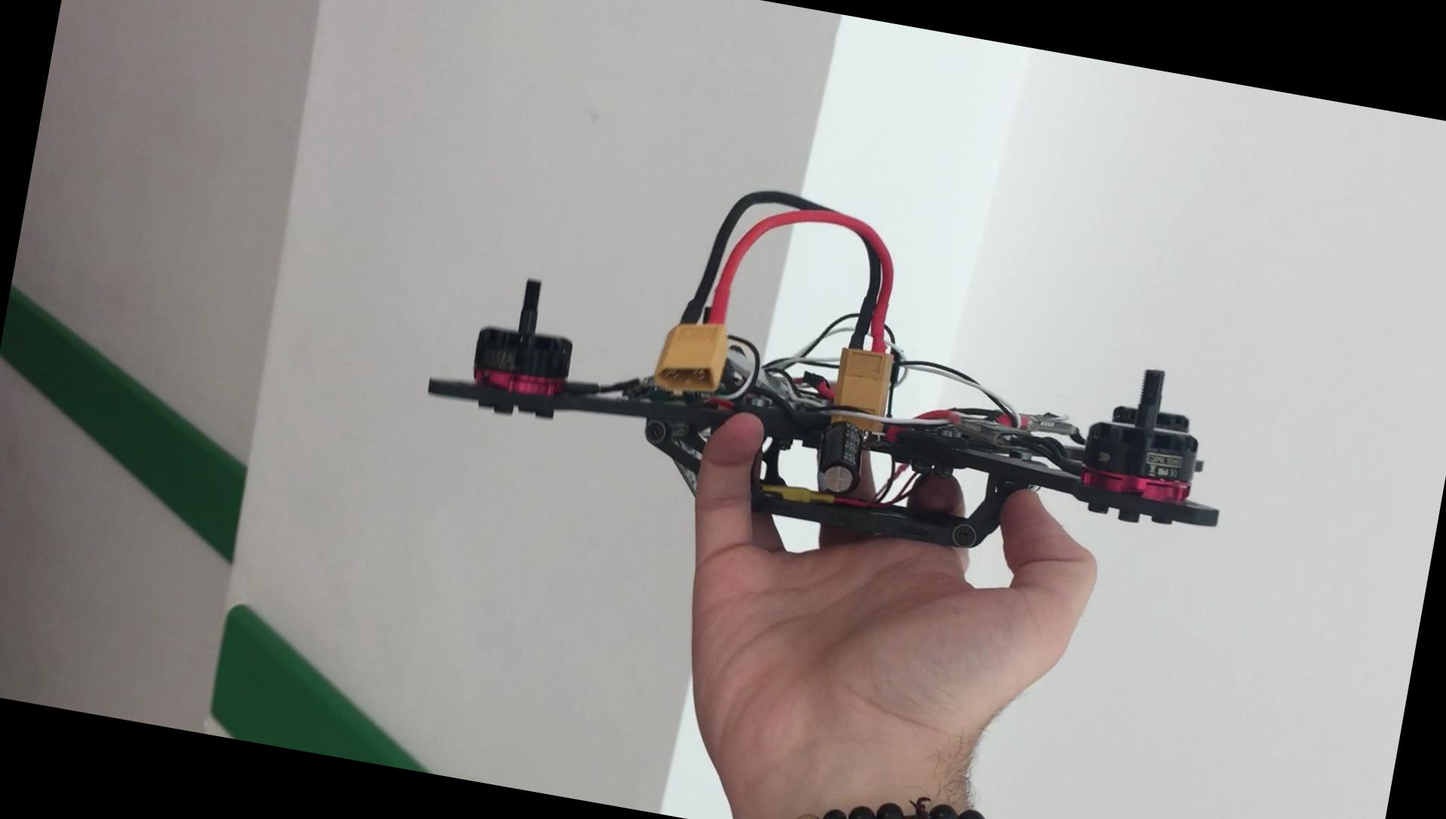drone: (398, 220, 1289, 622)
